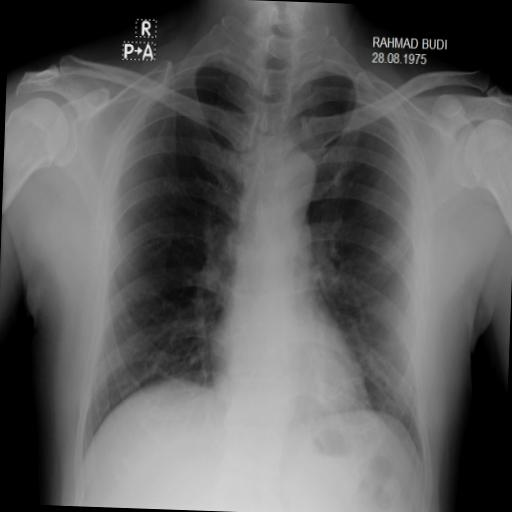normal: (66, 24, 457, 498)
